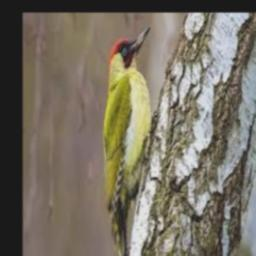Woodpecker: (102, 26, 160, 256)
